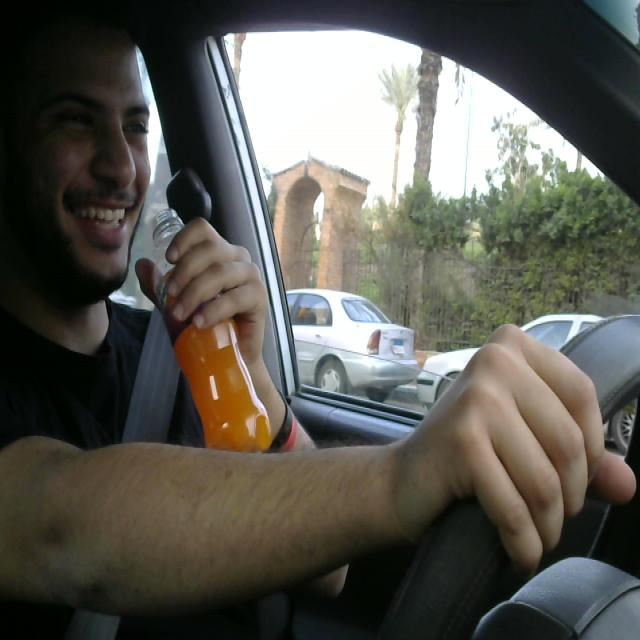drinking: (149, 210, 274, 477)
